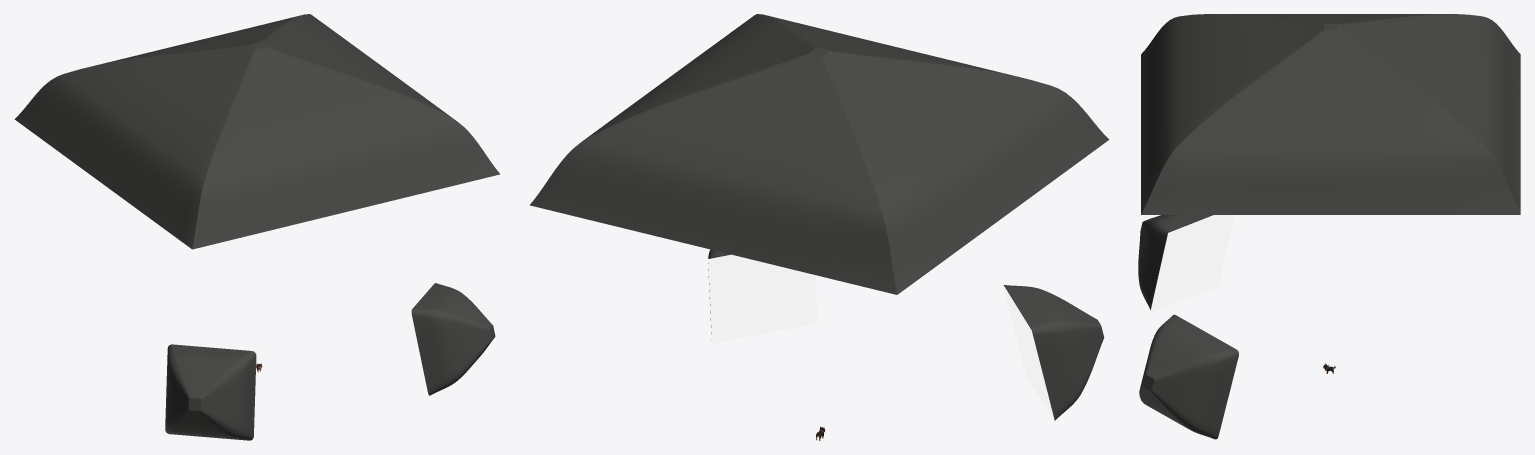
File: puppy.gltf
3 views of the same model, side by side, from view 1: azimuth 30°, elevation 25°; view 2: azimuth 150°, elevation 25°; view 3: azimuth 270°, elevation 25° (orthographic). The views are drawn at different scales.
Parts seen in each view (by area): view 1: Softbox_Assembly_3, Softbox_Assembly, Softbox_Assembly_2; view 2: Softbox_Assembly_3, Front_Of_Softbox_2, Softbox_Assembly, Front_Of_Softbox; view 3: Softbox_Assembly_3, Softbox_Assembly_2, Front_Of_Softbox, Softbox_Assembly.
Part boxes in pixels (<box>): Softbox_Assembly_3: <box>14,14,499,249</box>; Softbox_Assembly: <box>165,344,256,440</box>; Softbox_Assembly_2: <box>411,283,492,395</box>; Softbox_Assembly_3: <box>530,14,1109,294</box>; Front_Of_Softbox_2: <box>708,254,817,343</box>; Softbox_Assembly: <box>1004,285,1104,420</box>; Front_Of_Softbox: <box>1003,284,1054,421</box>; Softbox_Assembly_3: <box>1141,14,1520,214</box>; Softbox_Assembly_2: <box>1139,314,1238,439</box>; Front_Of_Softbox: <box>1150,215,1234,312</box>; Softbox_Assembly: <box>1138,215,1212,309</box>.
Size of what is drawn, in the model's own units: 15.45 by 15.48 by 15.49.
Materials: 5 (1 with a texture image).
